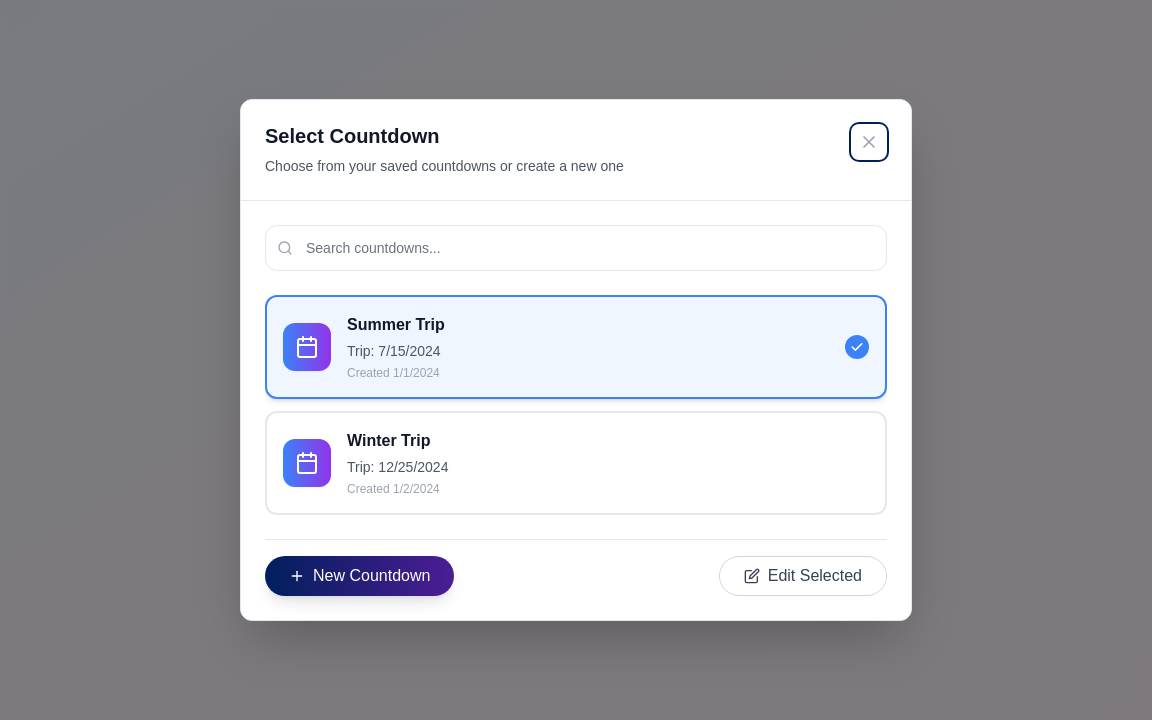
WidgetConfigSelectorDialog › should handle search functionality
The image size is (1152, 720).
Note: Type in search
In the field with placeholder "Search countdowns...": (576, 248) [265,225,887,271], type "Summer"
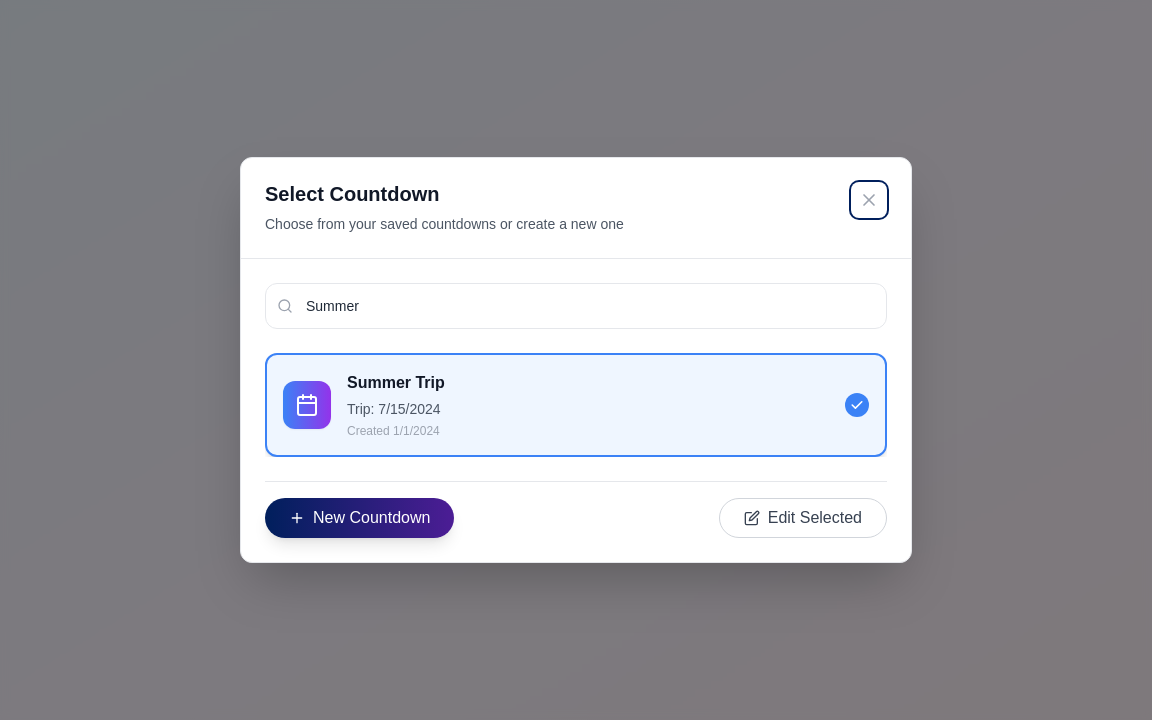
Expected: the heading "Summer Trip" is shown, [347,374,445,391]
Expected: the button "Winter Trip" is gone
